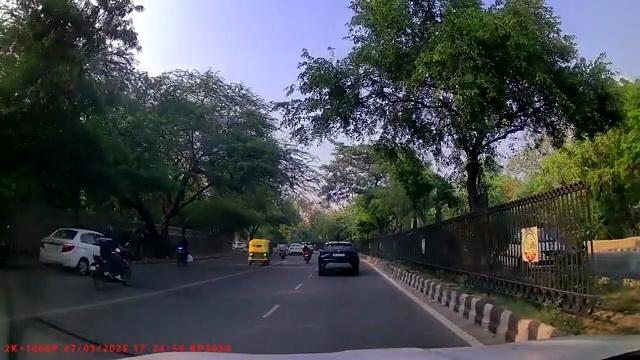motorcycle_with_helmet: (88, 227, 132, 291)
